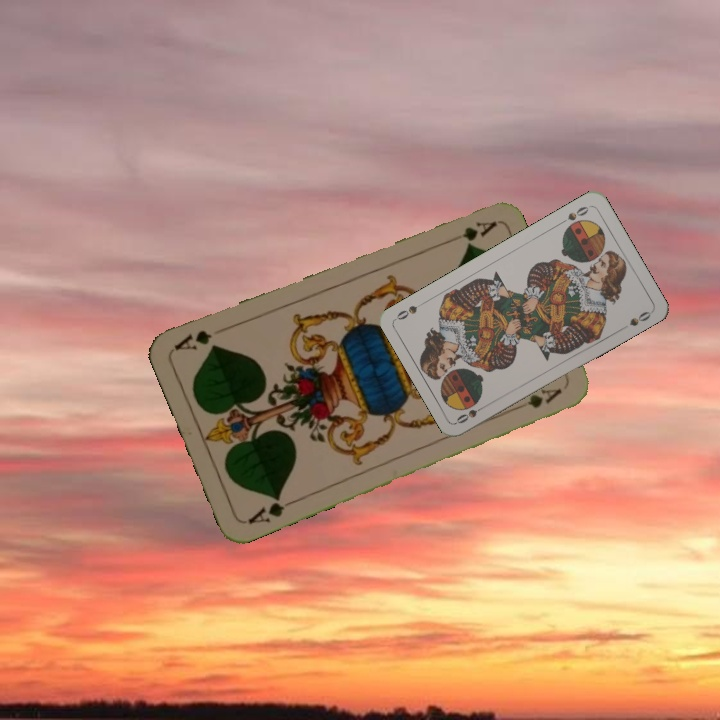GA: (244, 491, 299, 527), (441, 217, 499, 247)
SO: (452, 400, 489, 426), (555, 202, 593, 227)
